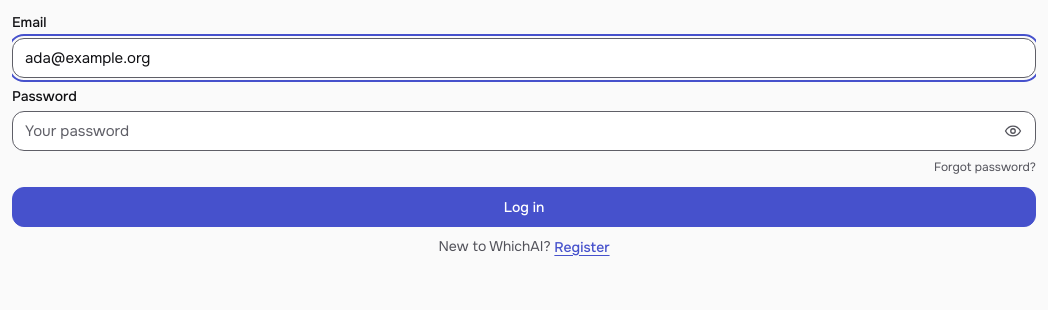
Test: a failed login › shows one message and leaves the password field empty
Type "wrong password" into the password field labelled "Password". click: coordinates (524, 131)
box: [12,111,1036,151]
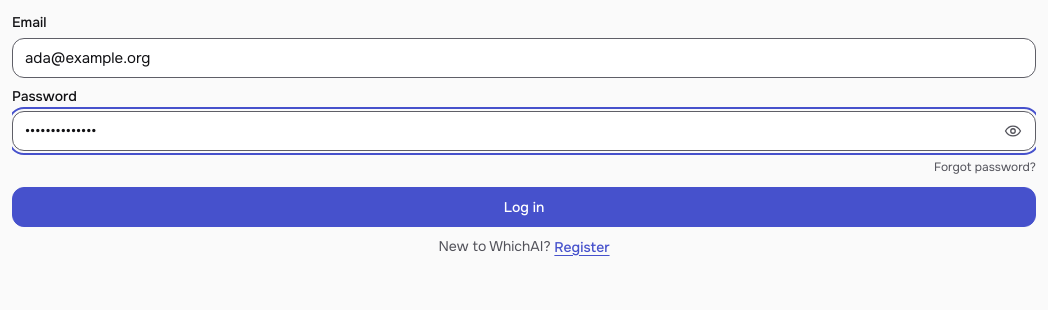
Click the button "Log in". click: coordinates (524, 207)
box: [12,187,1036,227]
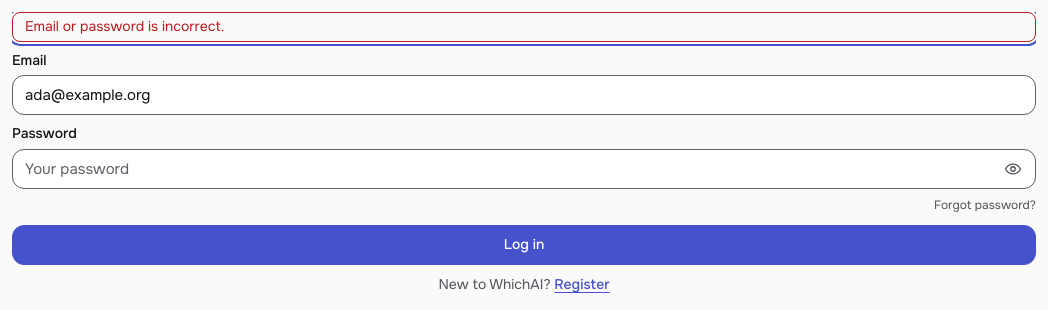
Expected: the text "Email or password is incorrect." is shown, [25,17,224,37]
Expected: the password field labelled "Password" is empty, [12,149,1036,189]
